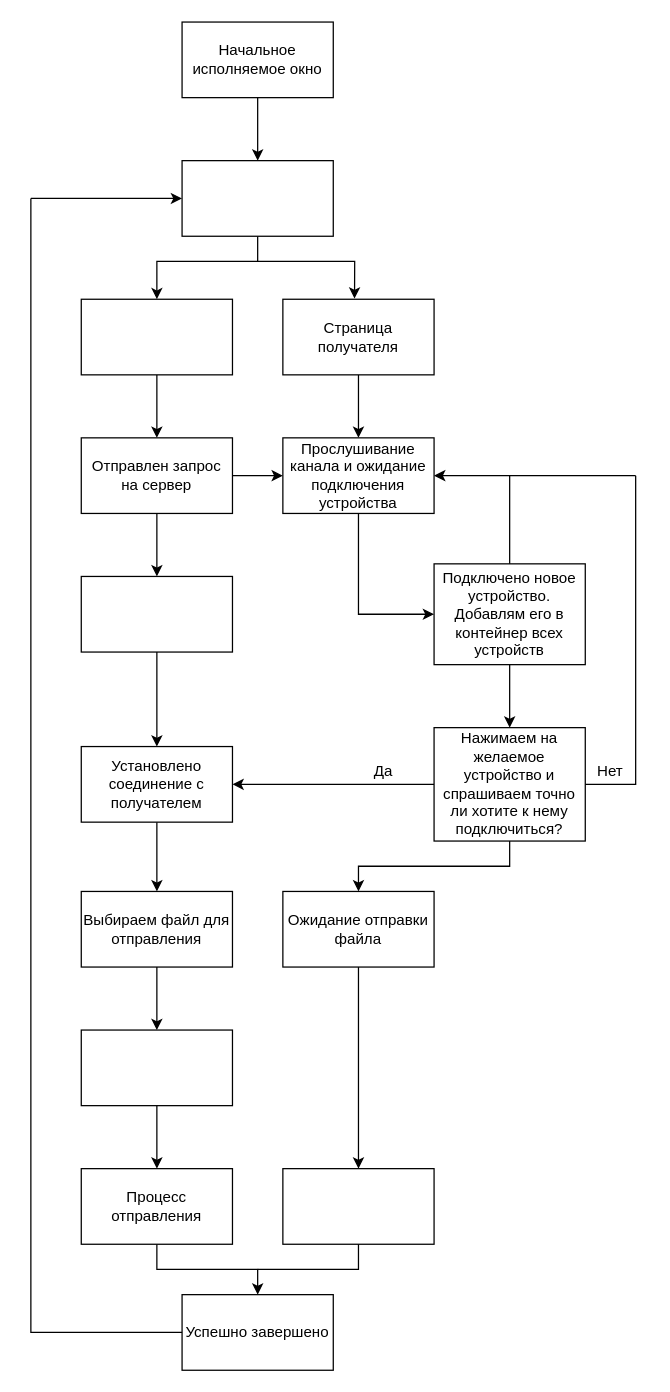
This 670x1392 diagram has some shape labels left out. Here are the shapes that lost their labels. From the top down, the box of each, then its label:
(181, 159, 333, 236): Главная страница
(80, 298, 232, 375): Страница отправителя
(80, 575, 232, 652): Ожидание ответа
(80, 1029, 232, 1106): Информация о выбранном файле
(282, 1167, 434, 1244): Процесс получения
